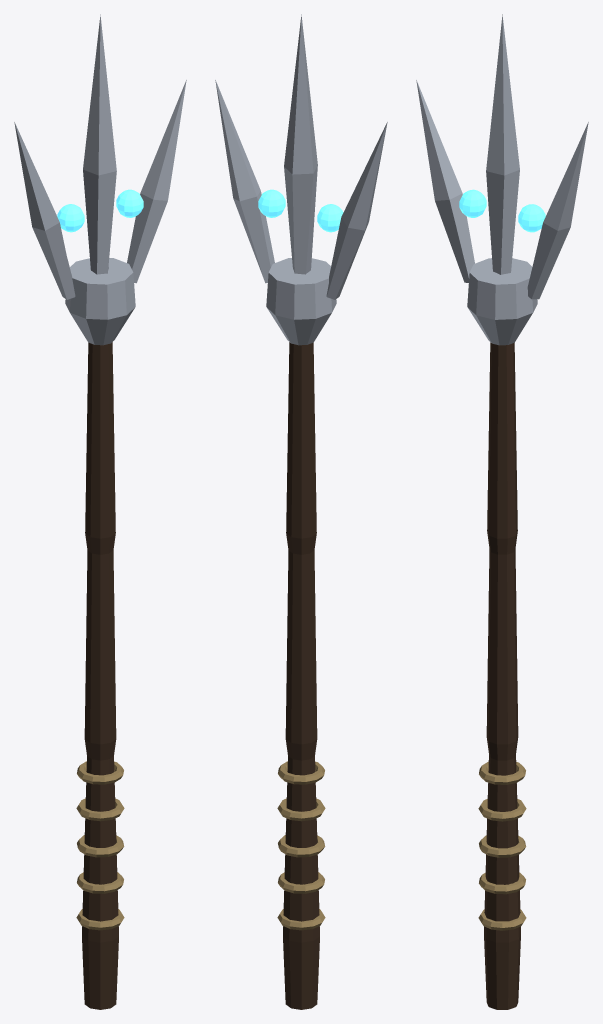
The model's file is staff_trident.glb.
The picture shows the model from 3 angles, left to right: view 1: azimuth 30°, elevation 25°; view 2: azimuth 150°, elevation 25°; view 3: azimuth 330°, elevation 25°; orthographic projection.
Parts seen in each view (by area): view 1: Tri_Shaft, Tri_Prong_C, Tri_Fork, Tri_Prong1, Tri_Prong0, Tri_Bead1, Tri_Bead0, Tri_Grip4, Tri_Grip3, Tri_Grip2, Tri_Grip1, Tri_Grip0; view 2: Tri_Shaft, Tri_Prong_C, Tri_Fork, Tri_Prong1, Tri_Prong0, Tri_Bead1, Tri_Grip4, Tri_Bead0, Tri_Grip3, Tri_Grip2, Tri_Grip1, Tri_Grip0; view 3: Tri_Shaft, Tri_Prong_C, Tri_Fork, Tri_Prong0, Tri_Prong1, Tri_Bead0, Tri_Bead1, Tri_Grip4, Tri_Grip3, Tri_Grip2, Tri_Grip1, Tri_Grip0.
Part boxes in pixels (<box>): Tri_Shaft: <box>82,342,118,1009</box>; Tri_Prong_C: <box>83,14,116,274</box>; Tri_Fork: <box>65,258,135,345</box>; Tri_Prong1: <box>127,80,186,283</box>; Tri_Prong0: <box>14,122,75,299</box>; Tri_Bead1: <box>116,189,143,217</box>; Tri_Bead0: <box>57,204,84,232</box>; Tri_Grip4: <box>77,761,123,784</box>; Tri_Grip3: <box>76,798,124,821</box>; Tri_Grip2: <box>77,835,124,857</box>; Tri_Grip1: <box>77,872,123,893</box>; Tri_Grip0: <box>76,909,124,930</box>; Tri_Shaft: <box>283,342,319,1009</box>; Tri_Prong_C: <box>284,14,317,274</box>; Tri_Fork: <box>266,258,336,345</box>; Tri_Prong1: <box>215,80,274,283</box>; Tri_Prong0: <box>326,122,387,299</box>; Tri_Bead1: <box>258,189,285,217</box>; Tri_Grip4: <box>278,761,324,784</box>; Tri_Bead0: <box>317,204,343,232</box>; Tri_Grip3: <box>277,798,325,821</box>; Tri_Grip2: <box>278,835,325,857</box>; Tri_Grip1: <box>278,872,324,893</box>; Tri_Grip0: <box>277,909,325,930</box>; Tri_Shaft: <box>484,342,520,1009</box>; Tri_Prong_C: <box>486,14,519,274</box>; Tri_Fork: <box>467,258,537,345</box>; Tri_Prong0: <box>416,80,474,282</box>; Tri_Prong1: <box>527,122,588,299</box>; Tri_Bead0: <box>459,189,486,217</box>; Tri_Bead1: <box>518,204,545,232</box>; Tri_Grip4: <box>479,761,525,784</box>; Tri_Grip3: <box>478,799,526,821</box>; Tri_Grip2: <box>479,835,526,857</box>; Tri_Grip1: <box>479,872,525,894</box>; Tri_Grip0: <box>478,909,526,930</box>.
Bounding box in the file's own units: 0.4219 × 2.31 × 0.1427.
